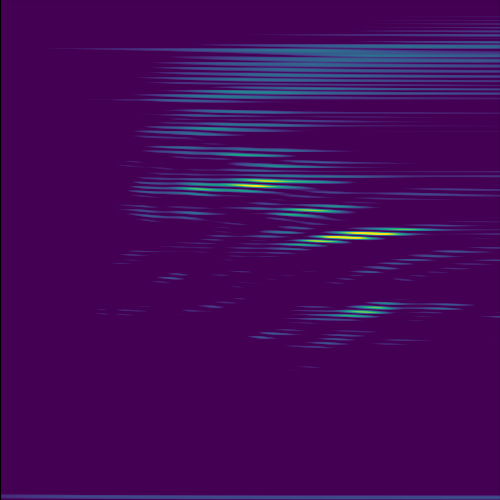semblance: (293, 223, 437, 248), (260, 198, 369, 218), (330, 294, 400, 320), (211, 174, 301, 192)
